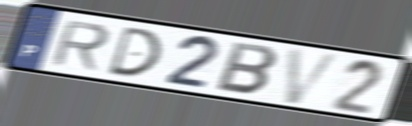2: (163, 33, 222, 93), (328, 58, 387, 117)
B: (213, 39, 281, 97)
D: (105, 25, 164, 79)
R: (48, 18, 113, 72)
V: (282, 46, 345, 107)
